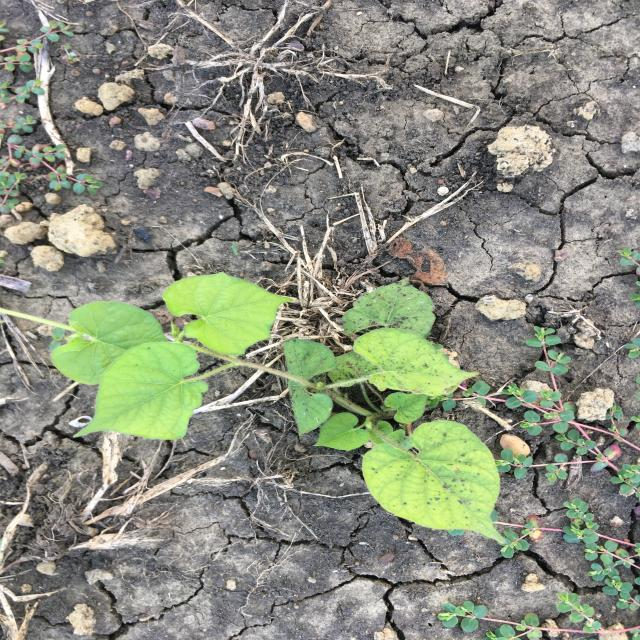MorningGlory: (48, 270, 512, 550)
SpottedSpurge: (412, 326, 639, 639), (0, 19, 104, 215), (617, 247, 639, 307)
